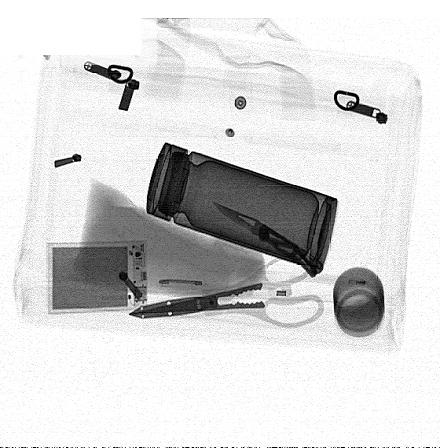Knife: (212, 199, 324, 280)
Powerbank: (46, 239, 150, 317)
Scissors: (128, 249, 324, 333)
